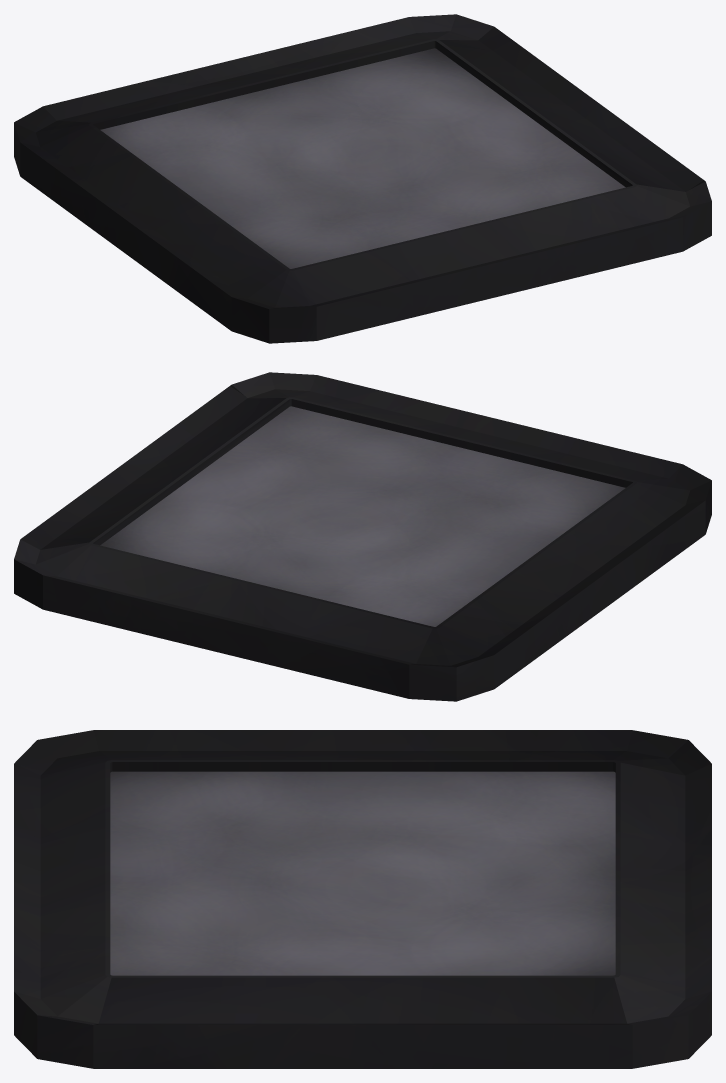
File: Motherboard component5.fbx
3 views of the same model, one above another, from view 1: azimuth 30°, elevation 25°; view 2: azimuth 150°, elevation 25°; view 3: azimuth 270°, elevation 25° (orthographic). The views are drawn at different scales.
Visible parts, largest first — view 1: Motherboard component 7; view 2: Motherboard component 7; view 3: Motherboard component 7.
Boxes of the visible parts, bbox=[...] form: Motherboard component 7: bbox=[14, 14, 711, 343]; Motherboard component 7: bbox=[14, 372, 711, 701]; Motherboard component 7: bbox=[14, 730, 711, 1068].
Size of the model in its own units: 7.28 by 0.6047 by 7.28.
